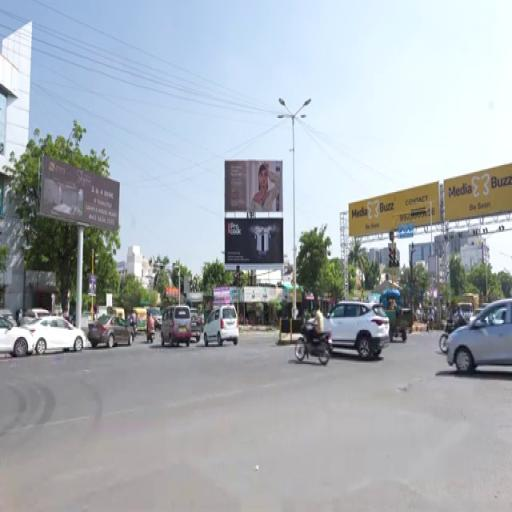Car: (447, 299, 511, 372), (324, 302, 389, 359), (24, 316, 85, 355), (88, 315, 134, 348), (204, 305, 239, 345), (0, 318, 34, 356), (161, 306, 191, 347), (21, 309, 50, 324), (191, 309, 202, 342), (148, 308, 162, 329), (0, 309, 16, 325), (469, 308, 483, 322)
